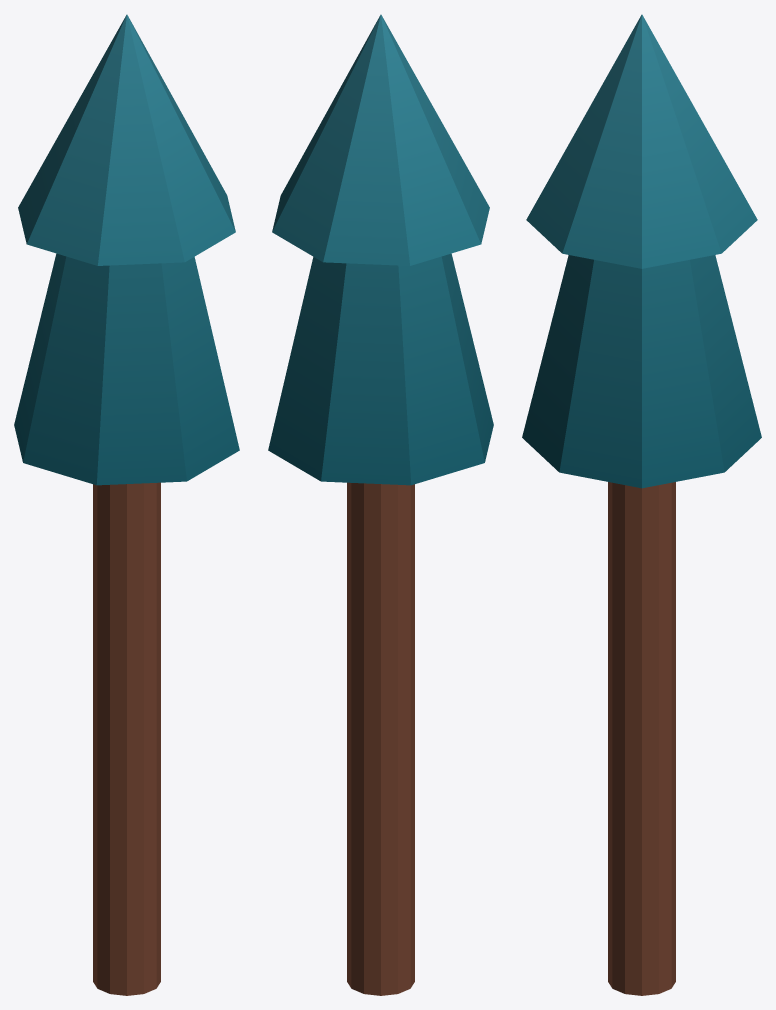
The model's file is Tree_21_gradient_blue_vc.fbx.
The picture shows the model from 3 angles, left to right: view 1: azimuth 30°, elevation 25°; view 2: azimuth 150°, elevation 25°; view 3: azimuth 270°, elevation 25°; orthographic projection.
Visible parts, largest first — view 1: Tree_21_gradient_blue_vc; view 2: Tree_21_gradient_blue_vc; view 3: Tree_21_gradient_blue_vc.
Boxes of the visible parts, box(x1,y1,x2,y2) form: Tree_21_gradient_blue_vc: box(14, 14, 239, 995); Tree_21_gradient_blue_vc: box(268, 14, 493, 995); Tree_21_gradient_blue_vc: box(522, 14, 761, 995).
Size of the model in its own units: 77.92 by 347 by 77.92.
